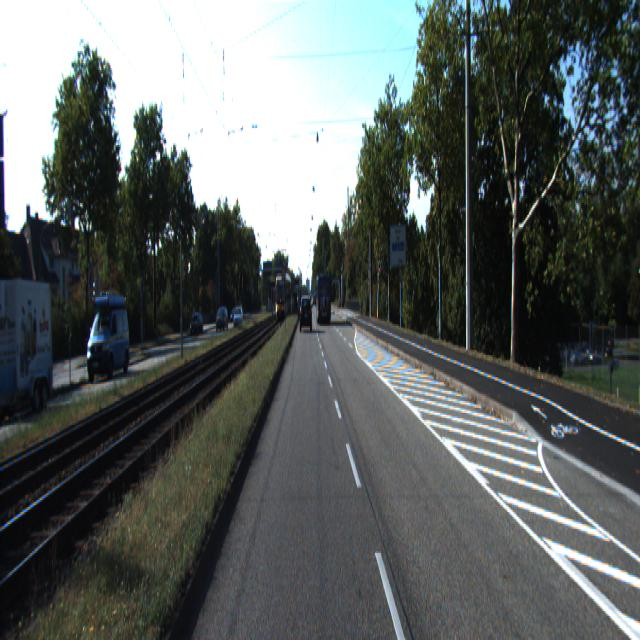Car: (0, 270, 57, 420), (85, 304, 131, 386), (315, 275, 331, 324), (300, 295, 312, 331)
